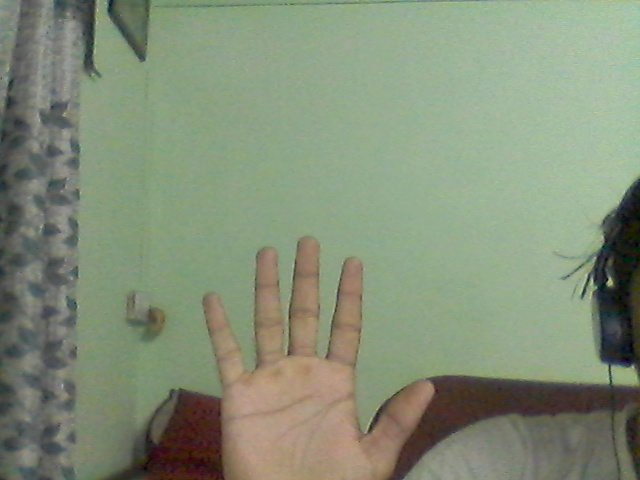Hello: (194, 216, 438, 480)
